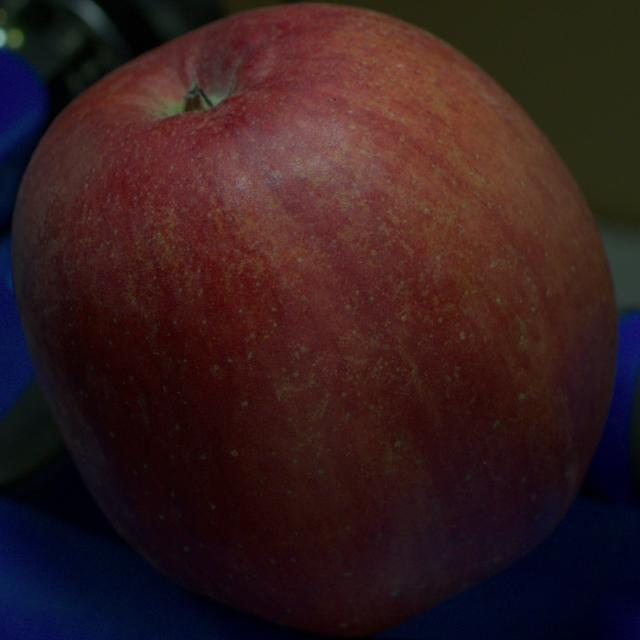apple: (13, 4, 616, 636)
